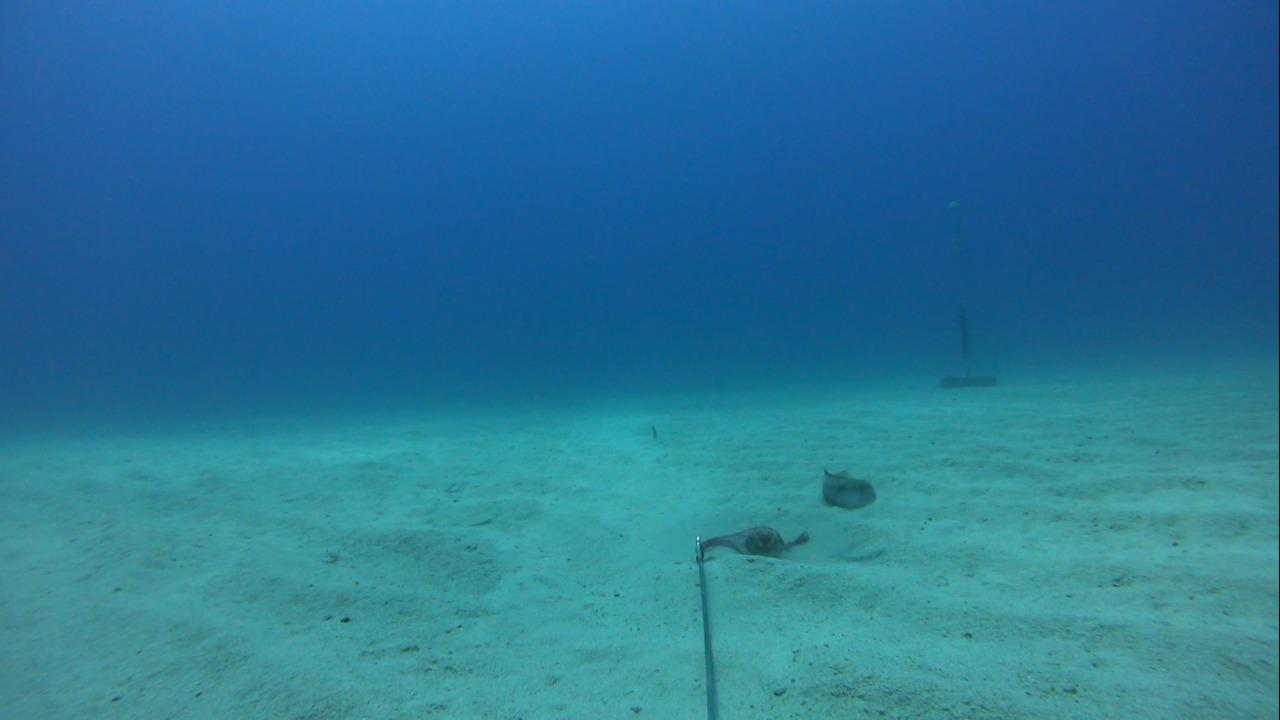raor: (800, 456, 889, 516)
